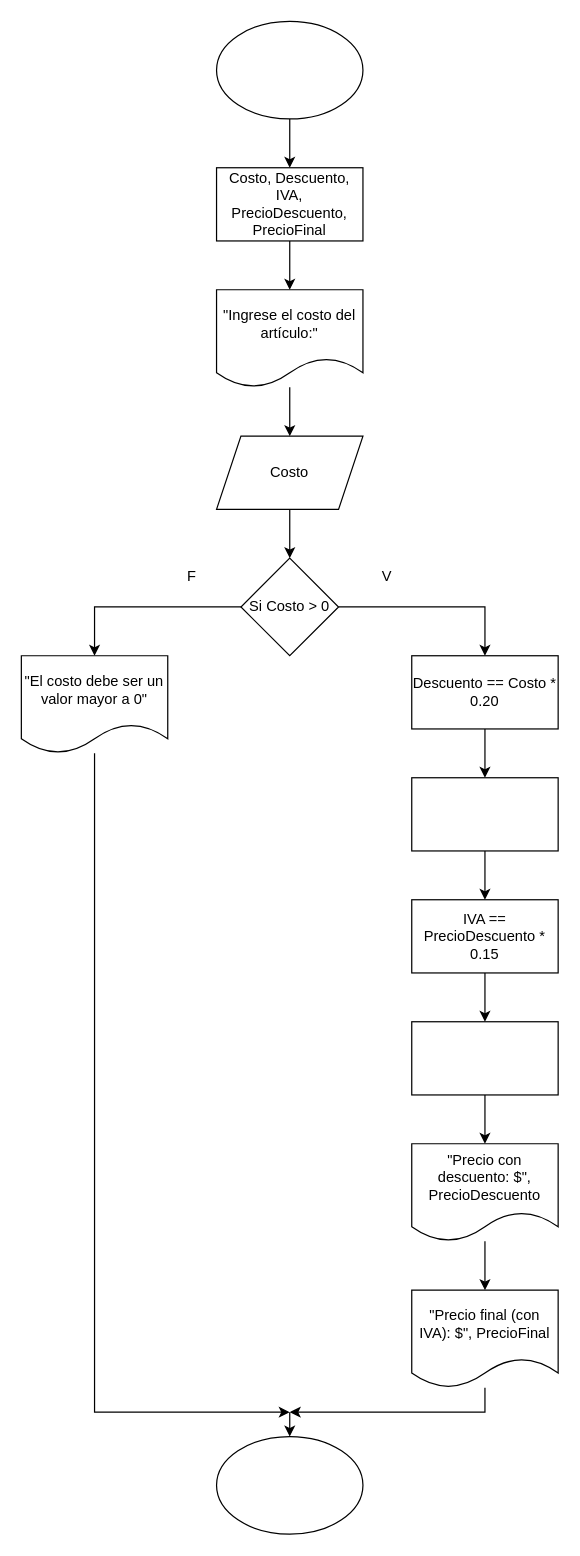
This 580x1556 diagram has some shape labels left out. Each missing label, with the centre of its shape:
FIN: [289,1484]
Inicio: [289,69]
PrecioDescuento == Costo - Descuento: [484,814]
PrecioFinal == PrecioDescuento + IVA: [484,1058]
